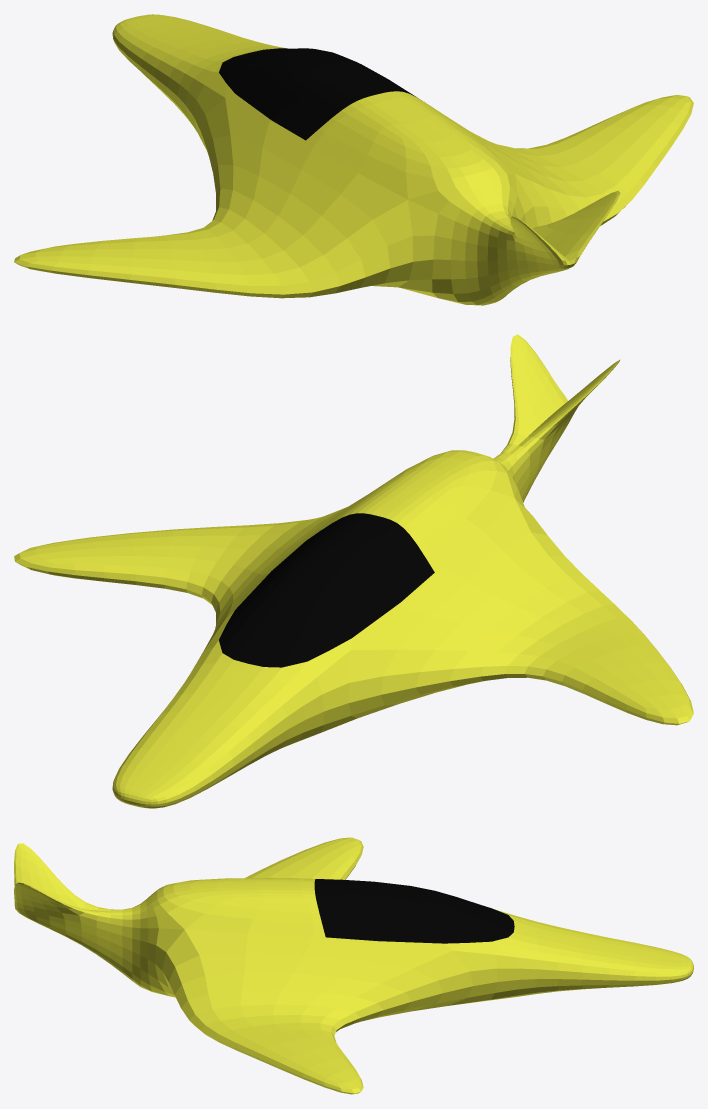
Rendered from Fly.glb.
3 views of the same model, one above another, from view 1: azimuth 30°, elevation 25°; view 2: azimuth 150°, elevation 25°; view 3: azimuth 270°, elevation 25° (orthographic). The views are drawn at different scales.
Visible parts, largest first — view 1: Cube, Cube.004; view 2: Cube, Cube.004; view 3: Cube, Cube.004.
Boxes of the visible parts, box(x1,y1,x2,y2) form: Cube: box(14, 14, 693, 305); Cube.004: box(219, 48, 417, 140); Cube: box(14, 334, 693, 808); Cube.004: box(219, 513, 434, 667); Cube: box(14, 837, 693, 1094); Cube.004: box(314, 879, 514, 943).
Bounding box in the file's own units: 4.77 × 1.11 × 5.37.
